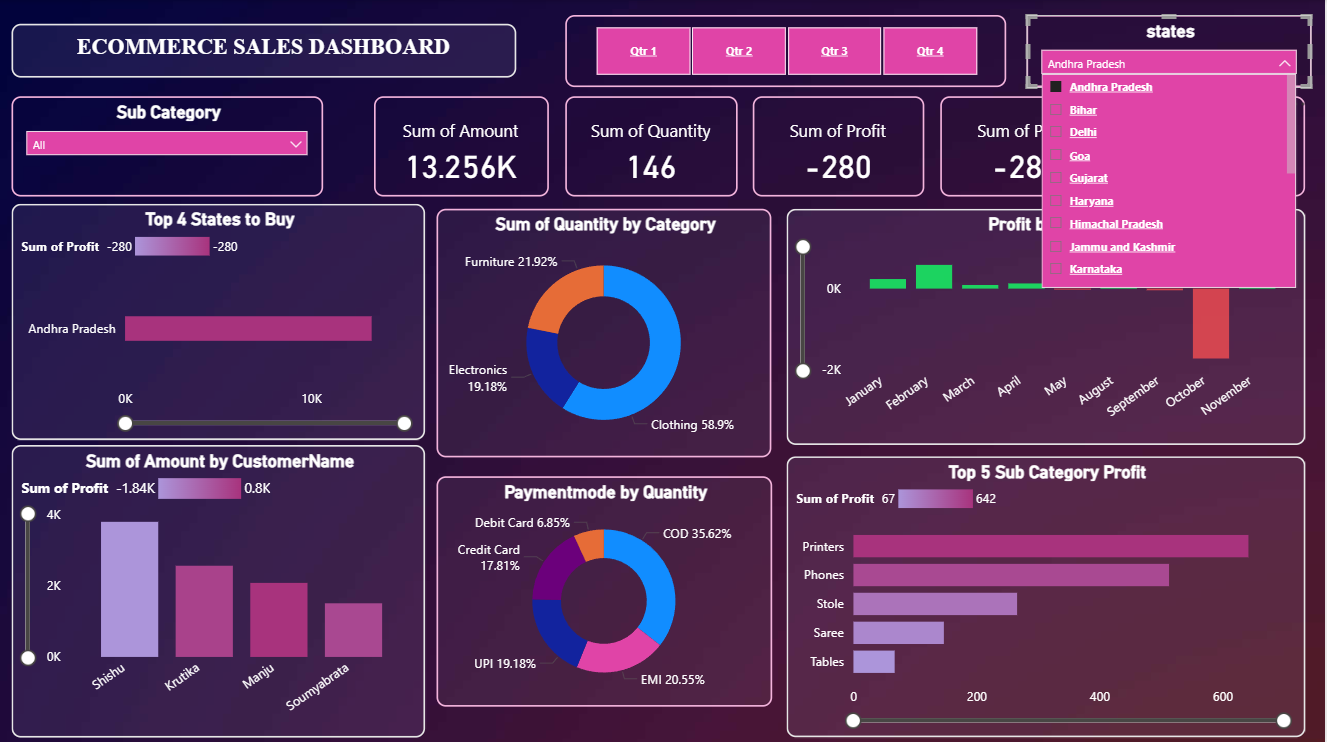

The page's visual inventory and layout, read from the dashboard file:
{"tool":"powerbi","page":{"name":"Page 1","canvas":[1280,720],"ordinal":0},"visuals":[{"type":"textbox","box":[12.3,23.3,487.1,52.1],"z":0},{"type":"columnChart","title":"Profit by Month","fields":{"Y":["Details.Profit"],"Category":["Orders.Order Date.Variation.Date Hierarchy.Month"]},"box":[760.1,201.5,500.7,228],"z":1000},{"type":"clusteredBarChart","title":"Top 5 Sub Category Profit","fields":{"Category":["Details.Sub-Category"],"Y":["Details.Profit"]},"box":[760.1,440.4,500.7,271.4],"z":2000},{"type":"donutChart","title":"Paymentmode by Quantity","fields":{"Category":["Details.PaymentMode"],"Y":["Details.Quantity"]},"box":[422.6,459.7,323.8,222.3],"z":3000},{"type":"cardVisual","fields":{"Data":["Details.Amount"]},"box":[361.9,92.9,168.9,96.5],"z":4000},{"type":"cardVisual","fields":{"Data":["Details.Profit"]},"box":[908.4,92.9,165.3,96.5],"z":5000},{"type":"cardVisual","fields":{"Data":["Details.Quantity"]},"box":[546.5,92.9,166.5,96.5],"z":6000},{"type":"cardVisual","fields":{"Data":["Details.Profit"]},"box":[727.5,92.9,165.3,96.5],"z":7000},{"type":"clusteredBarChart","title":"Top 4 States to Buy","fields":{"Category":["Orders.State"],"Y":["Details.Amount"]},"box":[12.3,196.2,399.3,227.8],"z":8000},{"type":"columnChart","fields":{"Category":["Orders.CustomerName"],"Y":["Details.Amount"]},"box":[12.3,429.5,399.3,282.7],"z":9000},{"type":"slicer","fields":{"Values":["Orders.Order Date.Variation.Date Hierarchy.Quarter"]},"box":[546.5,14.5,425.9,70],"z":10000},{"type":"slicer","title":"states","fields":{"Values":["Orders.State"]},"box":[991.7,14.5,275.1,70],"z":11000},{"type":"donutChart","fields":{"Y":["Details.Quantity"],"Series":["Details.Category"]},"box":[422.3,201.5,323.3,240.1],"z":12000},{"type":"cardVisual","fields":{"Data":["Details.AOV"]},"box":[1087,92.9,173.7,96.5],"z":13000},{"type":"slicer","title":"Sub Category","fields":{"Values":["Details.Sub-Category"]},"box":[12.1,92.9,300.4,96.5],"z":14000}]}

Visuals, with their boxes in screenshot pixels (x1, y1, x2, y2), scaled from the page's 1280x720 canvas onto the 1327x742 screenshot:
textbox: <box>13,24,518,78</box>
"Profit by Month" columnChart: <box>788,208,1307,443</box>
"Top 5 Sub Category Profit" clusteredBarChart: <box>788,454,1307,734</box>
"Paymentmode by Quantity" donutChart: <box>438,474,774,703</box>
cardVisual - Details.Amount: <box>375,96,550,195</box>
cardVisual - Details.Profit: <box>942,96,1113,195</box>
cardVisual - Details.Quantity: <box>567,96,739,195</box>
cardVisual - Details.Profit: <box>754,96,926,195</box>
"Top 4 States to Buy" clusteredBarChart: <box>13,202,427,437</box>
columnChart - Orders.CustomerName x Details.Amount: <box>13,443,427,734</box>
slicer - Orders.Order Date.Variation.Date Hierarchy.Quarter: <box>567,15,1008,87</box>
"states" slicer: <box>1028,15,1313,87</box>
donutChart - Details.Quantity x Details.Category: <box>438,208,773,455</box>
cardVisual - Details.AOV: <box>1127,96,1307,195</box>
"Sub Category" slicer: <box>13,96,324,195</box>
